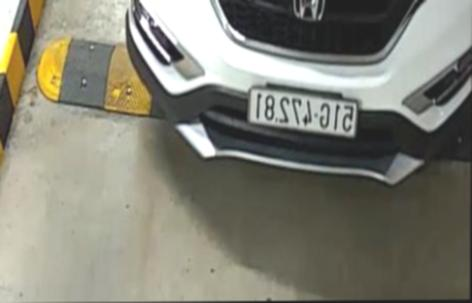License_Plate: (247, 88, 362, 137)
